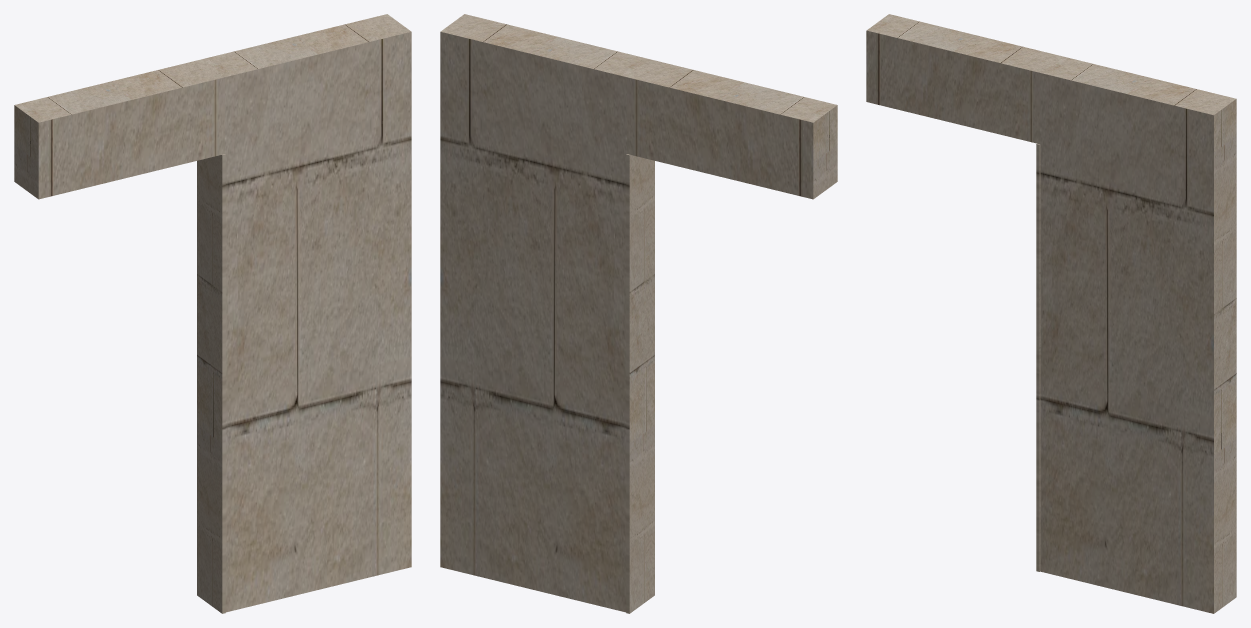
Rendered from limestone wall door slot open side.glb.
3 views of the same model, side by side, from view 1: azimuth 30°, elevation 25°; view 2: azimuth 150°, elevation 25°; view 3: azimuth 330°, elevation 25° (orthographic). The views are drawn at different scales.
Visible parts, largest first — view 1: mesh_wall_door_slot_v7_limestone_open_side, mesh_wall_door_slot_v7_limestone_open_side_reveal; view 2: mesh_wall_door_slot_v7_limestone_open_side, mesh_wall_door_slot_v7_limestone_open_side_reveal; view 3: mesh_wall_door_slot_v7_limestone_open_side, mesh_wall_door_slot_v7_limestone_open_side_reveal.
Part boxes in pixels (box(x1,y1,x2,y2)): mesh_wall_door_slot_v7_limestone_open_side: box(14, 14, 411, 612); mesh_wall_door_slot_v7_limestone_open_side_reveal: box(197, 154, 225, 613); mesh_wall_door_slot_v7_limestone_open_side: box(440, 14, 837, 612); mesh_wall_door_slot_v7_limestone_open_side_reveal: box(626, 154, 654, 613); mesh_wall_door_slot_v7_limestone_open_side: box(866, 14, 1236, 613); mesh_wall_door_slot_v7_limestone_open_side_reveal: box(1036, 143, 1040, 571).
Size of the model in its own units: 2 by 2.74 by 0.237.
1 material, 1 textured.
